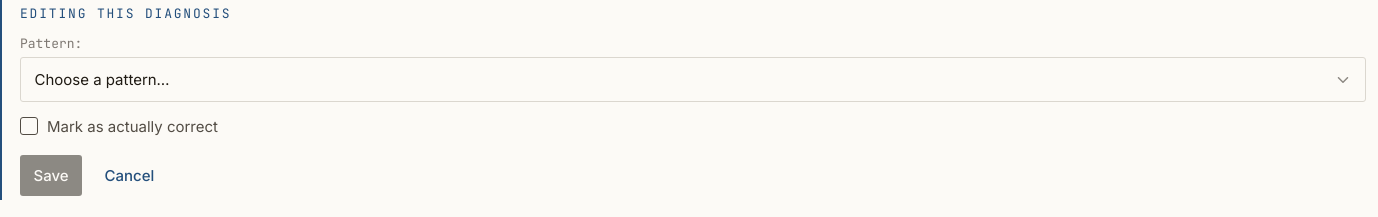
Test: EditPanel — interactions › checking 'Mark as actually correct' enables Save
What coordinates should you click on to do the following:
click the checkbox named "mark this problem as actually correct"
I would click on:
 (29, 126)
Its box is [20,117,38,135].
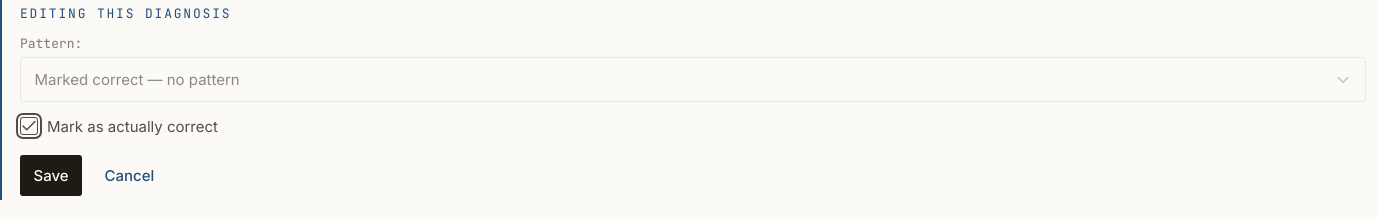
Check: the button "Save" is enabled, box [20,155,82,196]
